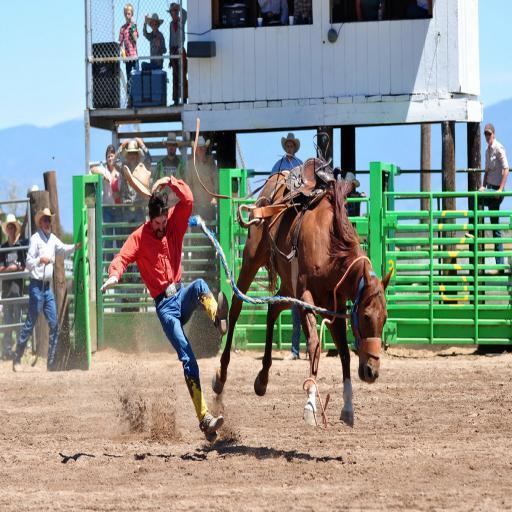horse: (210, 140, 397, 428)
